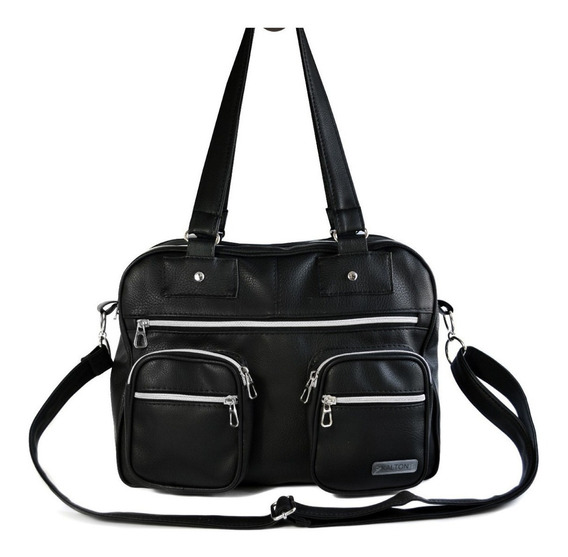cartera: (104, 25, 451, 501)
